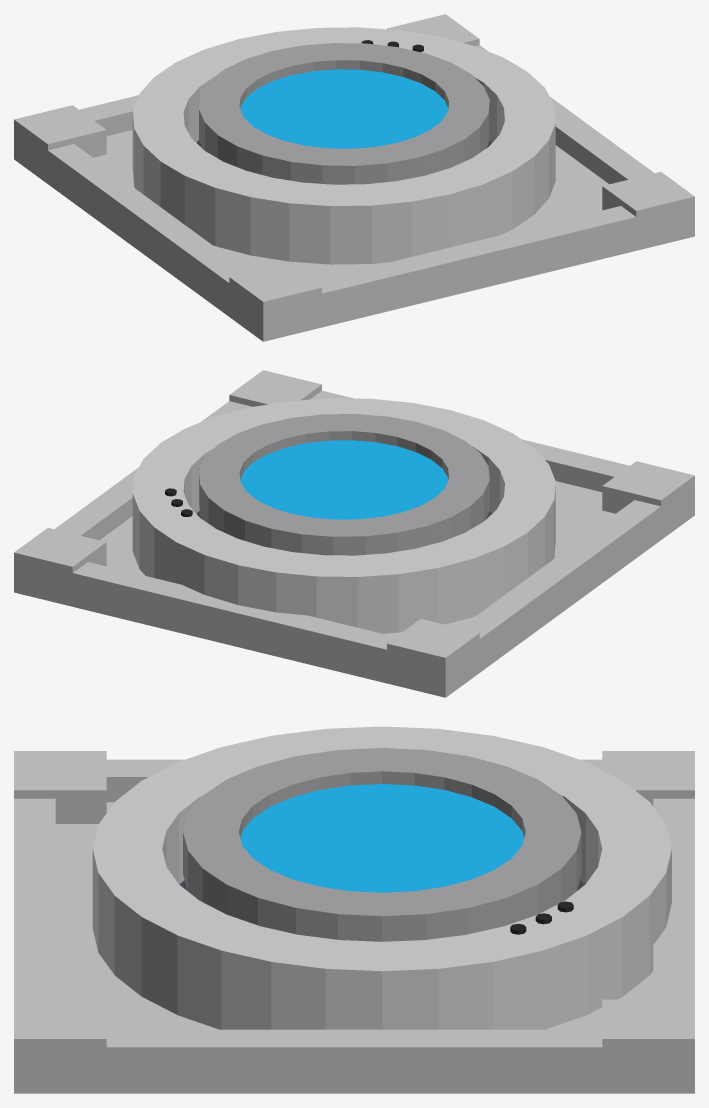
File: vge_grav_engine.obj
3 renders of one model, top to bottom at view 1: azimuth 30°, elevation 25°; view 2: azimuth 150°, elevation 25°; view 3: azimuth 270°, elevation 25°, orthographic. The views are drawn at different scales.
Parts seen in each view (by area): view 1: vge_grav_engine_10, vge_grav_engine_11, vge_grav_engine_1, vge_grav_engine_0, vge_grav_engine_12, vge_grav_engine_3, vge_grav_engine_5, vge_grav_engine_6, vge_grav_engine_4, vge_grav_engine_7, vge_grav_engine_2, vge_grav_engine_8; view 2: vge_grav_engine_10, vge_grav_engine_11, vge_grav_engine_2, vge_grav_engine_0, vge_grav_engine_12, vge_grav_engine_3, vge_grav_engine_6, vge_grav_engine_5, vge_grav_engine_8, vge_grav_engine_4, vge_grav_engine_1, vge_grav_engine_7; view 3: vge_grav_engine_10, vge_grav_engine_11, vge_grav_engine_4, vge_grav_engine_0, vge_grav_engine_12, vge_grav_engine_1, vge_grav_engine_2, vge_grav_engine_5, vge_grav_engine_8, vge_grav_engine_7, vge_grav_engine_6, vge_grav_engine_3.
Boxes of the visible parts, x1,y1,x2,y2 form: vge_grav_engine_10: (132,27,555,264); vge_grav_engine_11: (199,43,489,184); vge_grav_engine_1: (248,203,694,341); vge_grav_engine_0: (14,130,694,341); vge_grav_engine_12: (240,69,448,148); vge_grav_engine_3: (29,137,248,329); vge_grav_engine_5: (229,263,321,341); vge_grav_engine_6: (14,105,106,181); vge_grav_engine_4: (475,45,654,184); vge_grav_engine_7: (602,172,694,247); vge_grav_engine_2: (14,95,138,165); vge_grav_engine_8: (387,14,479,45); vge_grav_engine_10: (132,398,555,633); vge_grav_engine_11: (199,414,489,555); vge_grav_engine_2: (14,559,460,697); vge_grav_engine_0: (14,481,694,697); vge_grav_engine_12: (240,440,448,519); vge_grav_engine_3: (460,500,662,668); vge_grav_engine_6: (387,619,479,696); vge_grav_engine_5: (602,461,694,524); vge_grav_engine_8: (14,528,106,602); vge_grav_engine_4: (54,401,252,540); vge_grav_engine_1: (310,390,694,509); vge_grav_engine_7: (229,370,321,406); vge_grav_engine_10: (92,726,671,1029); vge_grav_engine_11: (183,748,581,941); vge_grav_engine_4: (55,1029,653,1093); vge_grav_engine_0: (14,802,694,1093); vge_grav_engine_12: (240,784,524,892); vge_grav_engine_1: (14,798,55,1093); vge_grav_engine_2: (653,798,694,1093); vge_grav_engine_5: (14,751,106,823); vge_grav_engine_8: (602,999,694,1092); vge_grav_engine_7: (14,999,106,1092); vge_grav_engine_6: (602,751,694,806); vge_grav_engine_3: (106,759,602,802).
Bounding box in the file's own units: 2.94 × 0.56 × 2.94.
